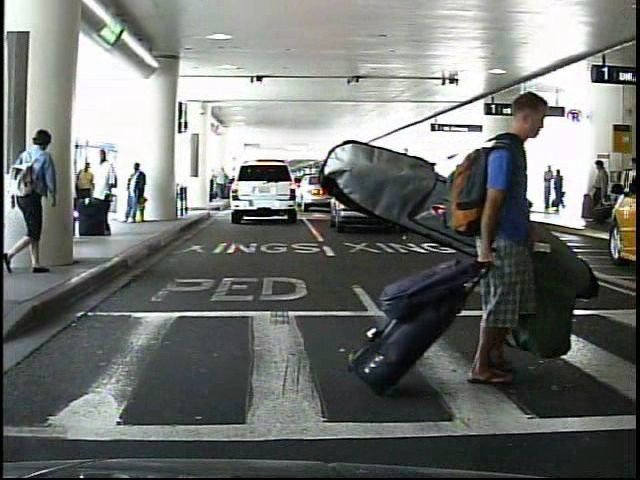person: (442, 82, 553, 388), (11, 130, 61, 275), (90, 146, 117, 238), (123, 161, 149, 227), (586, 158, 609, 225), (74, 158, 94, 230), (540, 163, 554, 212), (551, 169, 563, 213)
